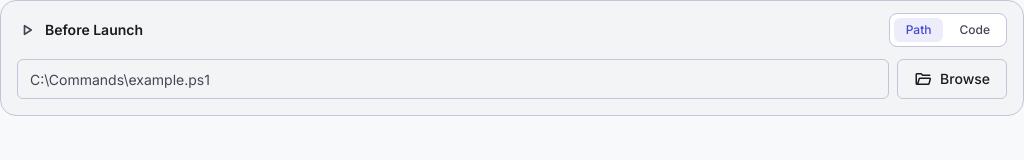
it: PhaseBlock › surfaces a browse error when the picker rejects
Step 1. Click the button "Browse" → (952, 79), box [897,59,1007,99]
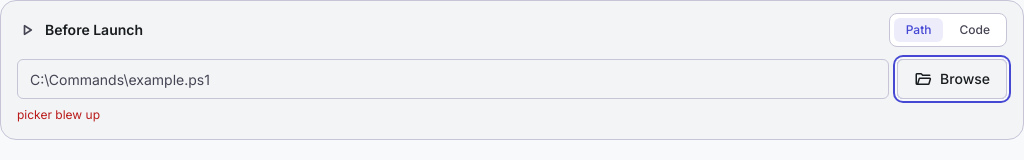
Now the text "picker blew up" is shown, box [17,107,100,122]
